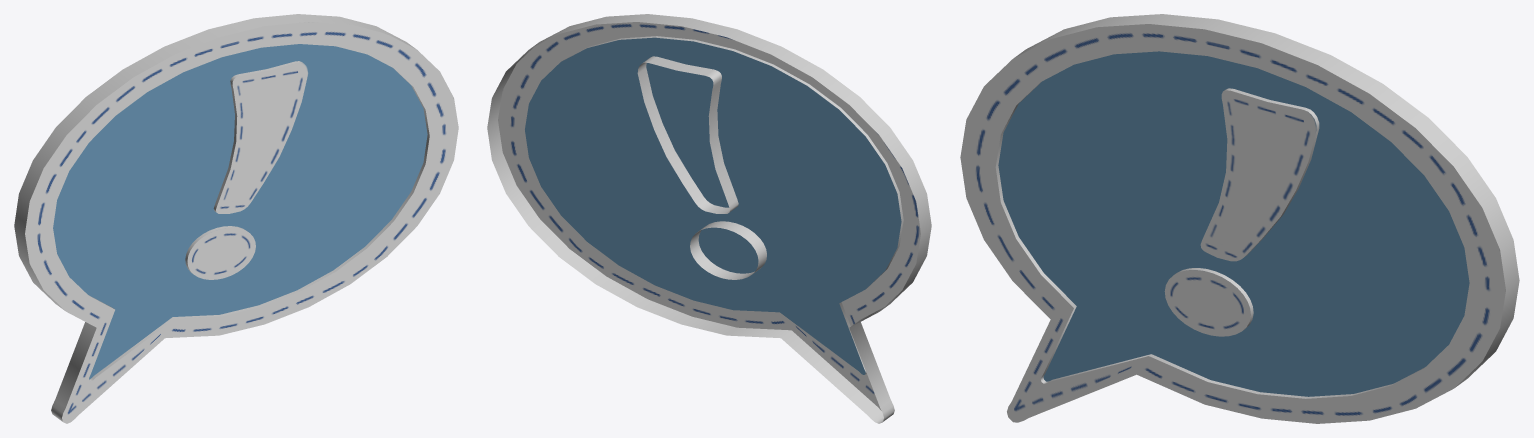
Rendered from BallonIcon.FBX.
The picture shows the model from 3 angles, left to right: view 1: azimuth 30°, elevation 25°; view 2: azimuth 150°, elevation 25°; view 3: azimuth 330°, elevation 25°; orthographic projection. The views are drawn at different scales.
Parts seen in each view (by area): view 1: Ballon; view 2: Ballon; view 3: Ballon.
Boxes of the visible parts, x1,y1,x2,y2 form: Ballon: (14, 14, 458, 423); Ballon: (487, 14, 931, 423); Ballon: (960, 14, 1519, 423).
Bounding box in the file's own units: 1.1 × 0.8464 × 0.0473.
